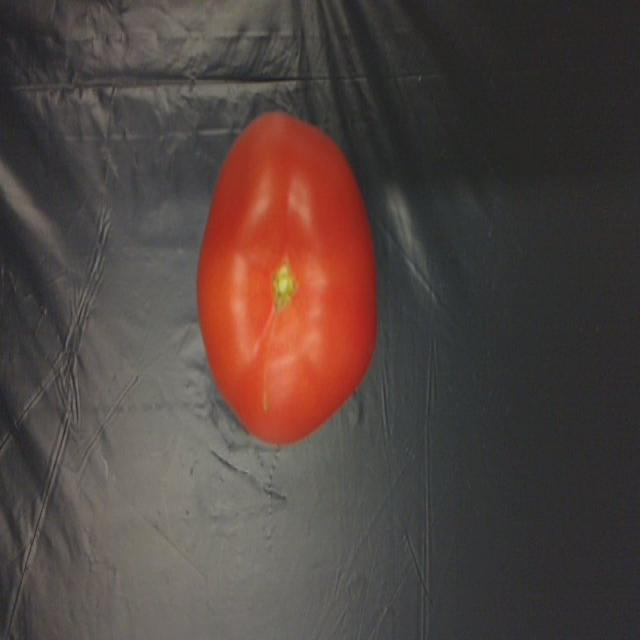kirmizi: (190, 97, 383, 469)
